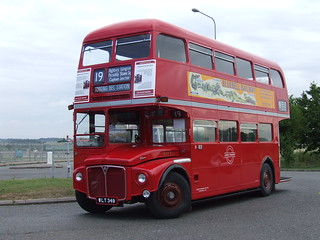bus: (72, 18, 288, 219)
